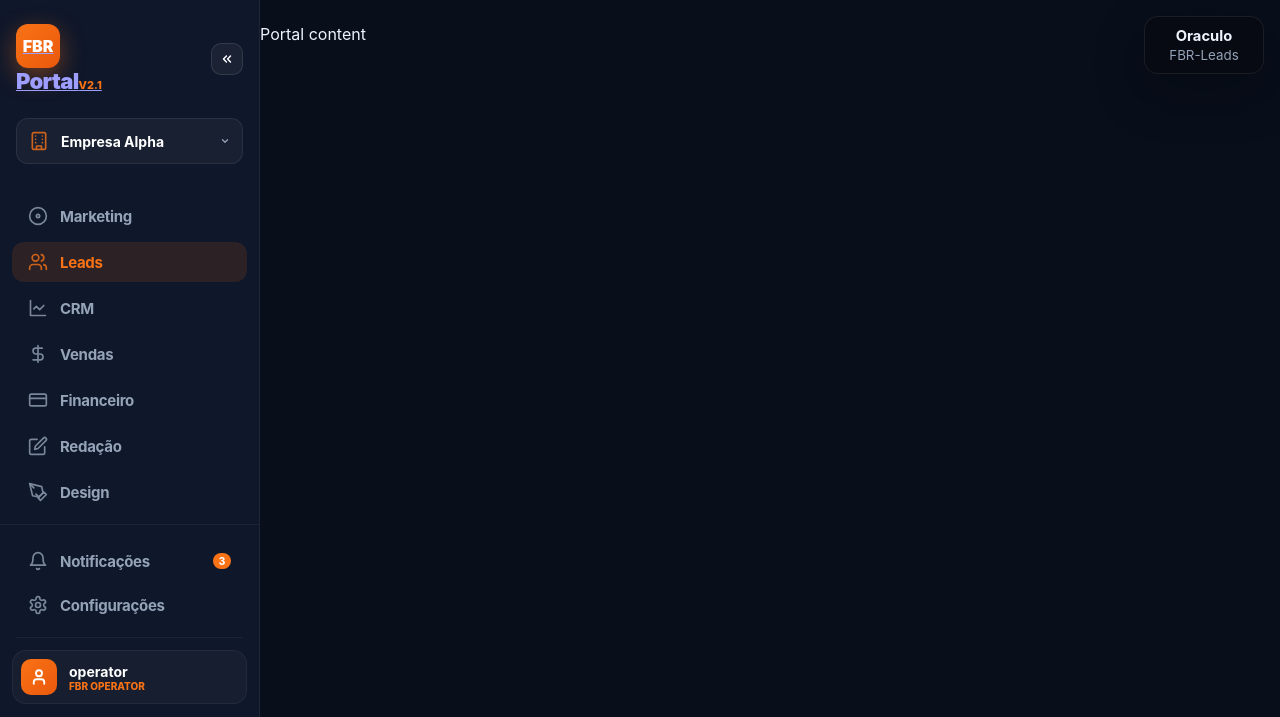
Scenario: PortalOraculoShell › toggles the panel and renders contextual suggestions
Click the button "Oraculo FBR-Leads" at (1204, 45), box [1144, 16, 1264, 74]
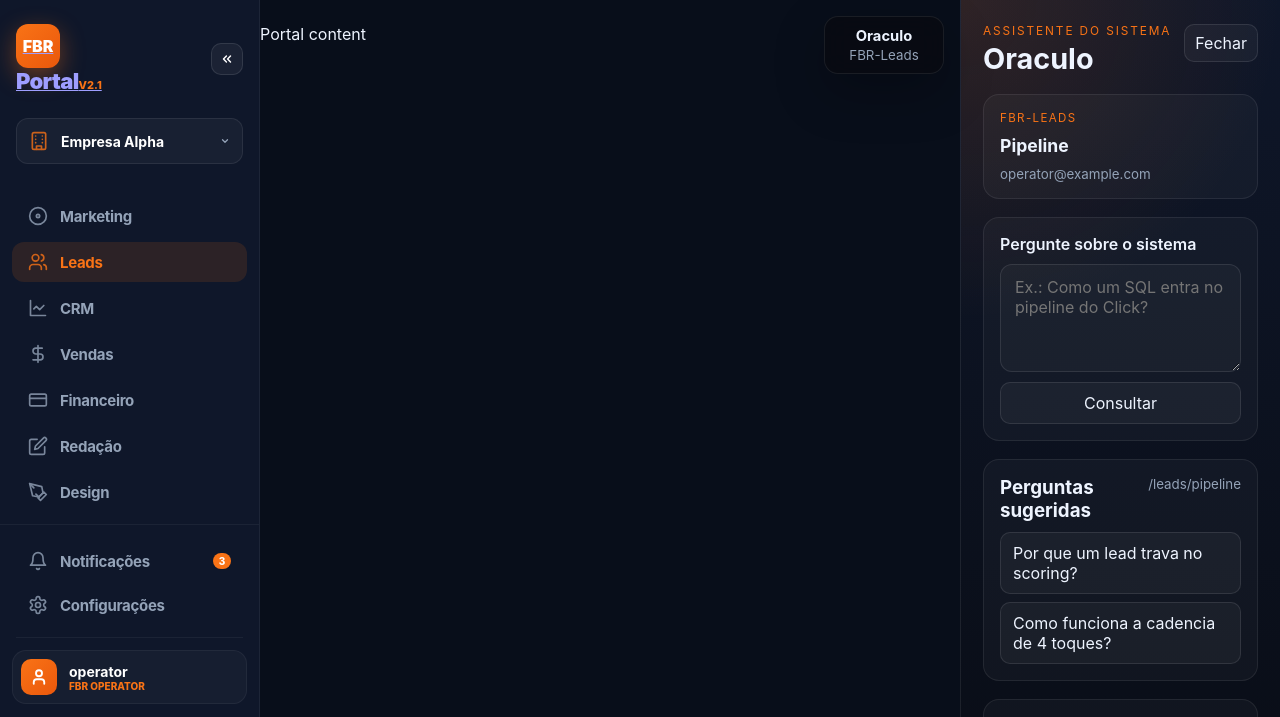
Check: the heading "Oraculo" is shown, box [983, 41, 1094, 76]
Check: the button "Por que um lead trava no scoring?" is shown, box [1000, 532, 1241, 594]
